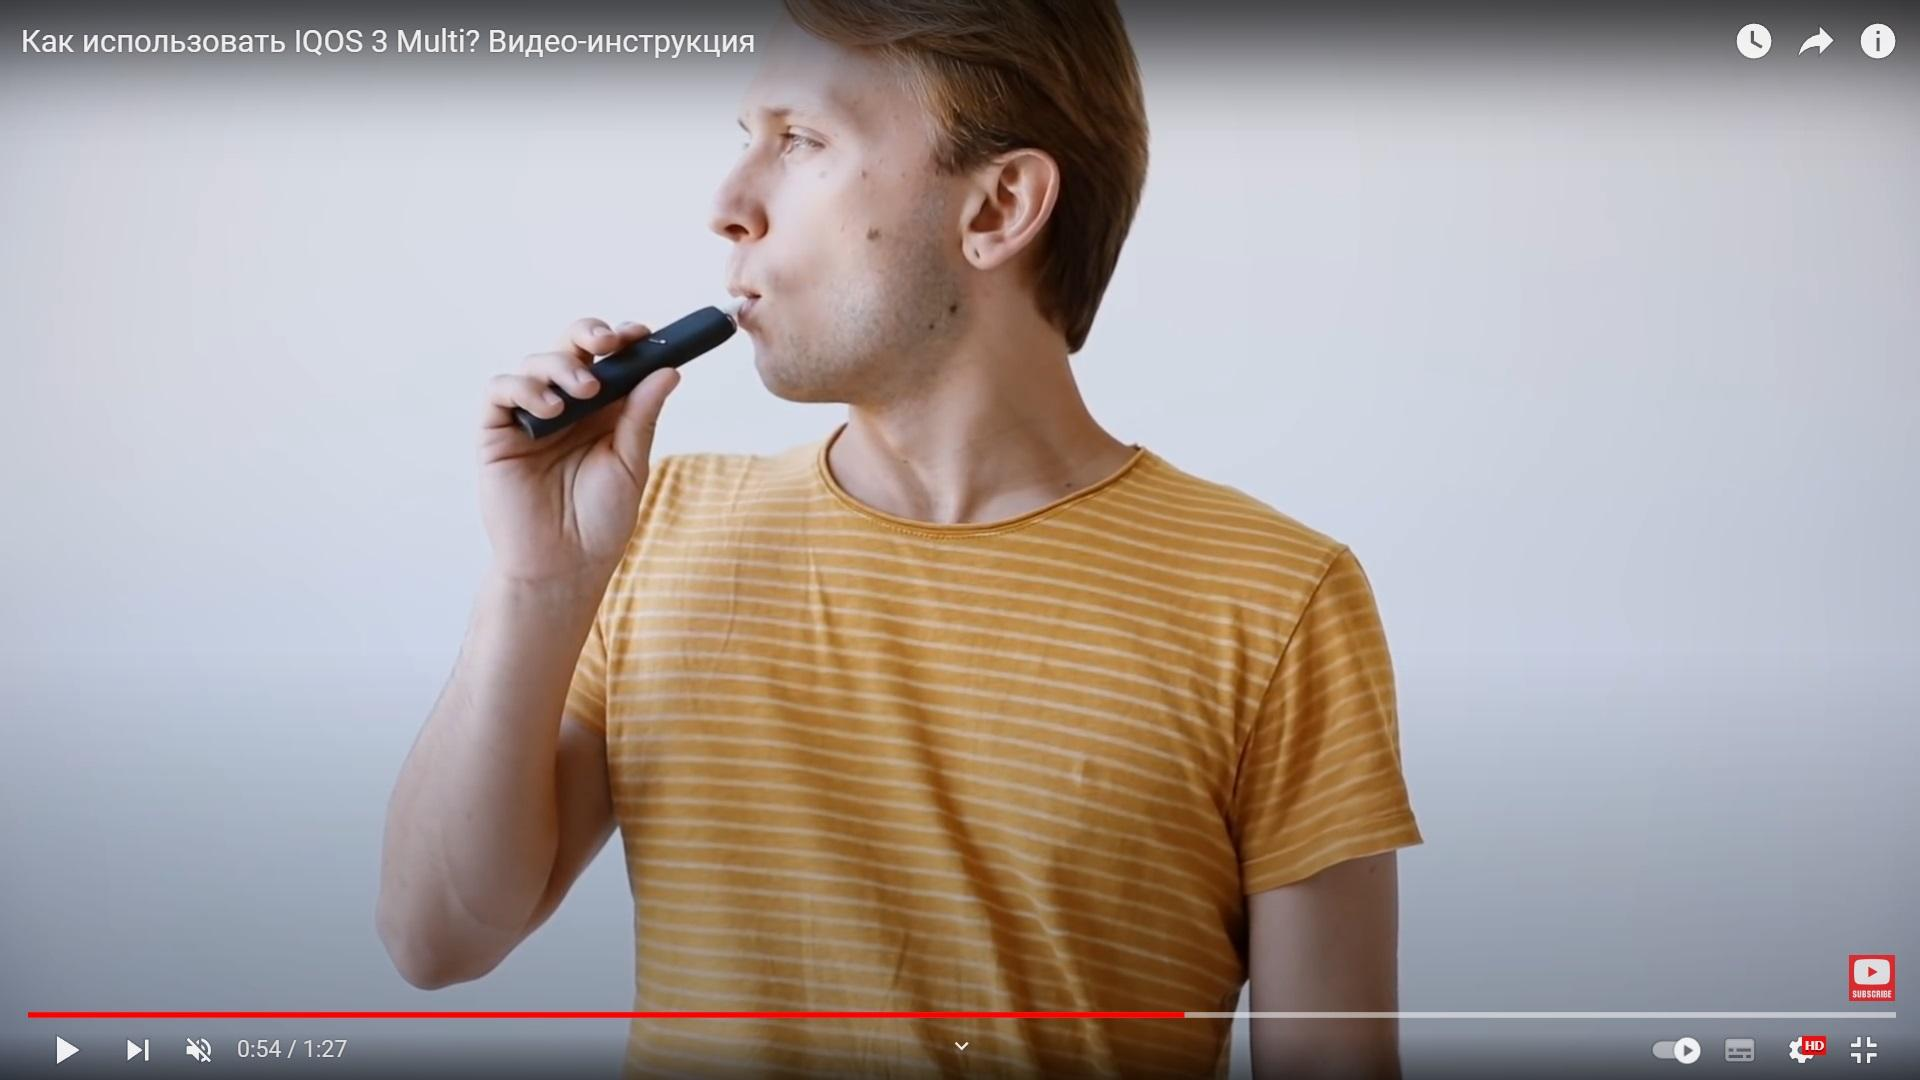iqos: (512, 294, 749, 438)
